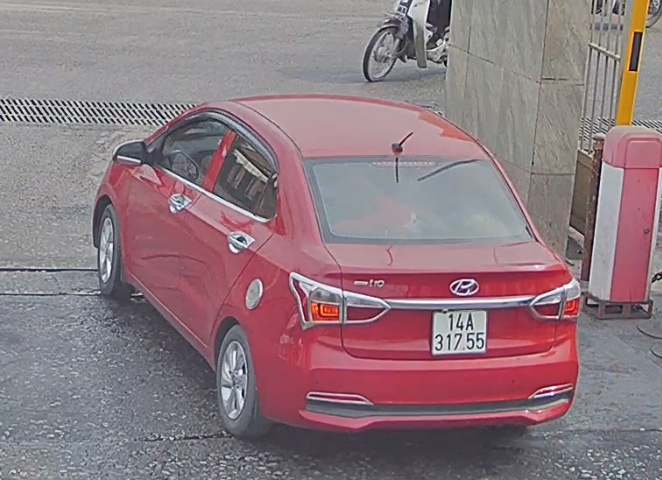vehicle plate: (427, 305, 492, 355)
